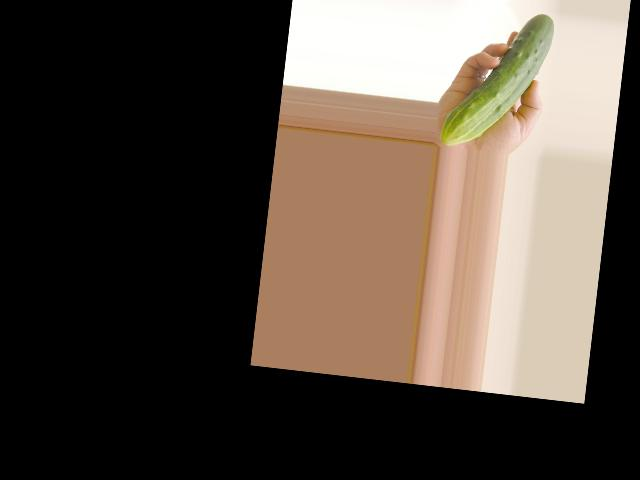cucumber: (439, 4, 554, 155)
